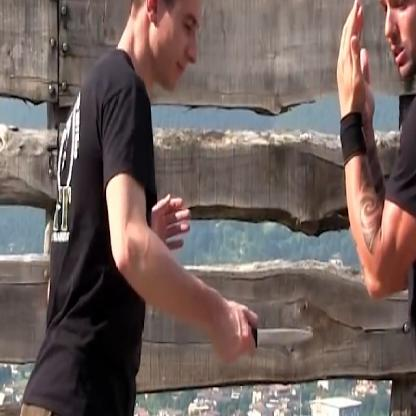knife: (218, 293, 316, 371)
